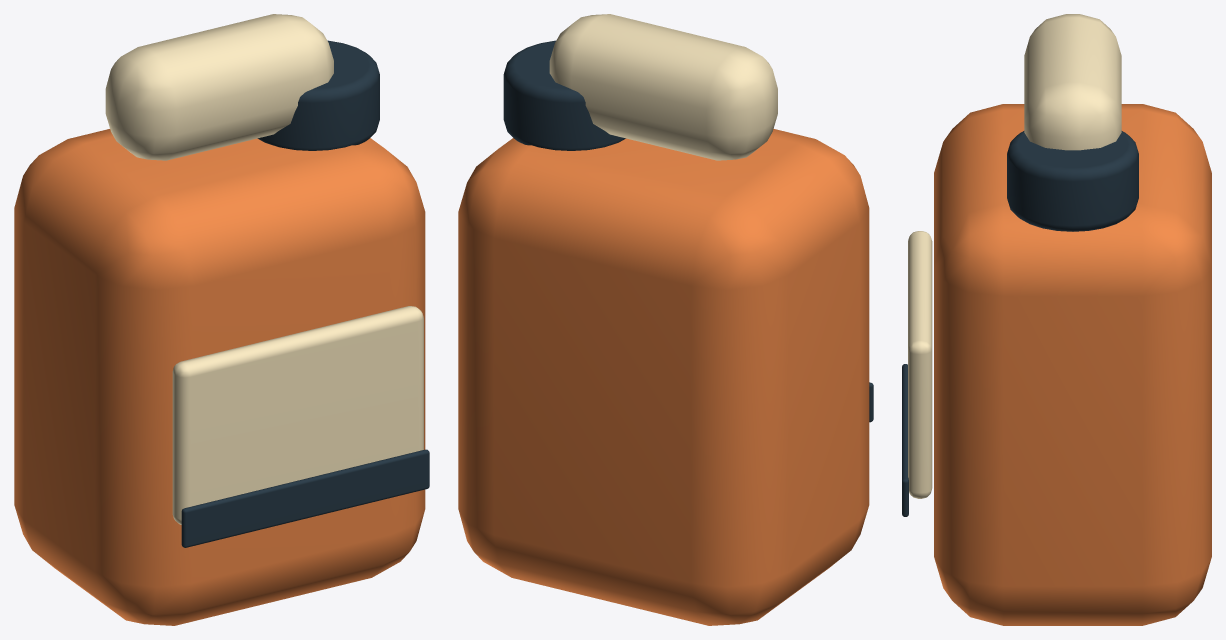
The model's file is mango.glb.
3 views of the same model, side by side, from view 1: azimuth 30°, elevation 25°; view 2: azimuth 150°, elevation 25°; view 3: azimuth 270°, elevation 25° (orthographic). The views are drawn at different scales.
Parts seen in each view (by area): view 1: Jerrycan, Label, Handle, Stripe, Cap; view 2: Jerrycan, Handle, Cap; view 3: Jerrycan, Handle, Cap, Label, Stripe.
Boxes of the visible parts, x1=… form: Jerrycan: x1=14, y1=129, x2=425, y2=625; Label: x1=172, y1=306, x2=423, y2=524; Handle: x1=105, y1=14, x2=333, y2=160; Stripe: x1=181, y1=449, x2=429, y2=547; Cap: x1=257, y1=40, x2=379, y2=150; Jerrycan: x1=458, y1=129, x2=869, y2=625; Handle: x1=549, y1=14, x2=777, y2=160; Cap: x1=503, y1=40, x2=625, y2=150; Jerrycan: x1=934, y1=104, x2=1211, y2=625; Handle: x1=1024, y1=14, x2=1121, y2=150; Cap: x1=1007, y1=131, x2=1138, y2=231; Label: x1=908, y1=231, x2=932, y2=498; Stripe: x1=902, y1=364, x2=908, y2=516.
Bounding box in the file's own units: 0.52 × 0.83 × 0.446.
